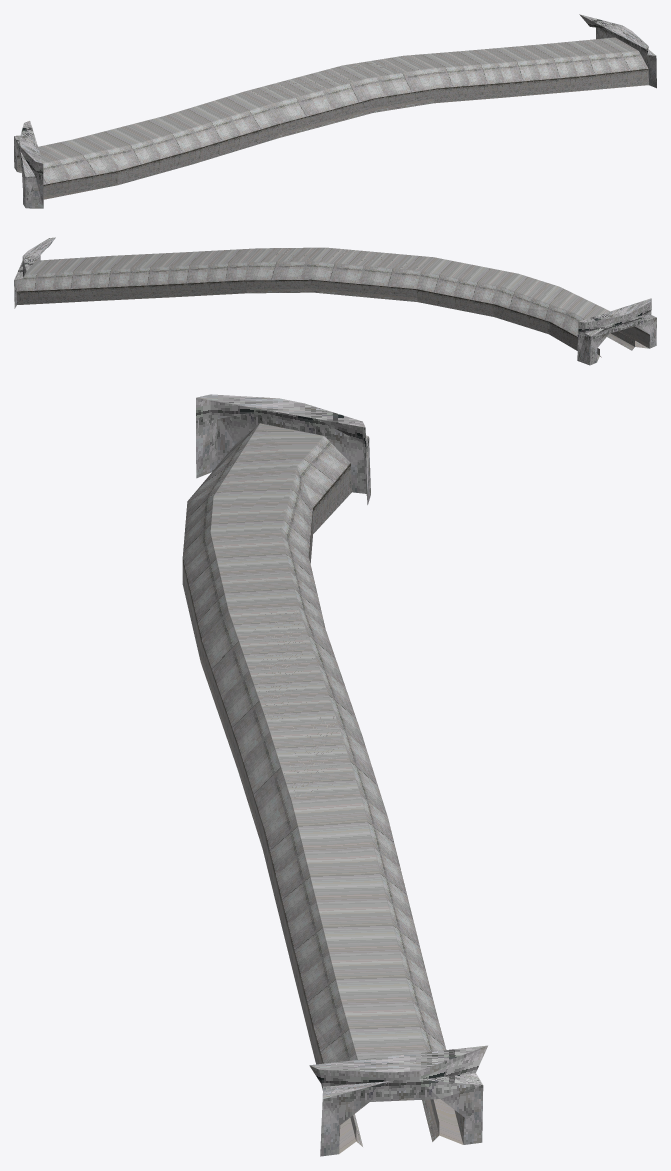
Rendered from lodcuntetunnel1.obj.
3 views of the same model, one above another, from view 1: azimuth 30°, elevation 25°; view 2: azimuth 150°, elevation 25°; view 3: azimuth 270°, elevation 25° (orthographic). The views are drawn at different scales.
Parts seen in each view (by area): view 1: LODcuntetunnel1; view 2: LODcuntetunnel1; view 3: LODcuntetunnel1.
Part boxes in pixels (<box>): LODcuntetunnel1: <box>14,14,656,208</box>; LODcuntetunnel1: <box>14,237,656,365</box>; LODcuntetunnel1: <box>182,394,487,1156</box>.
Bounding box in the file's own units: 194 × 30.87 × 43.6.
Materials: 2 (2 with a texture image).
